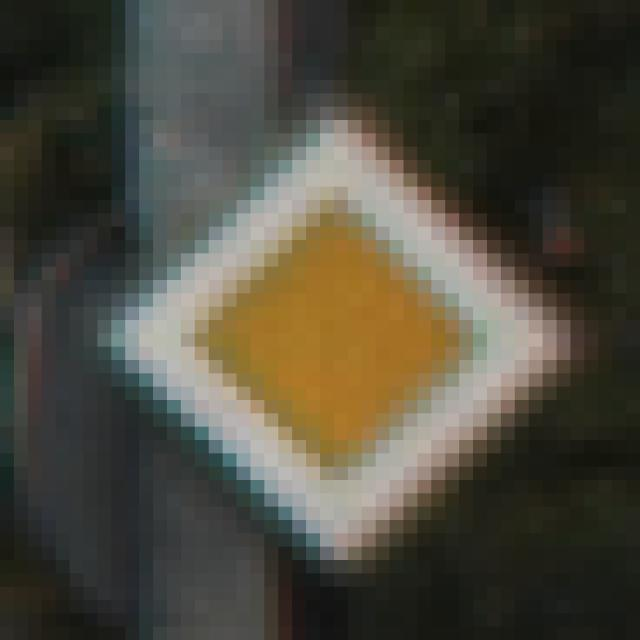Main Road: (85, 81, 572, 574)
